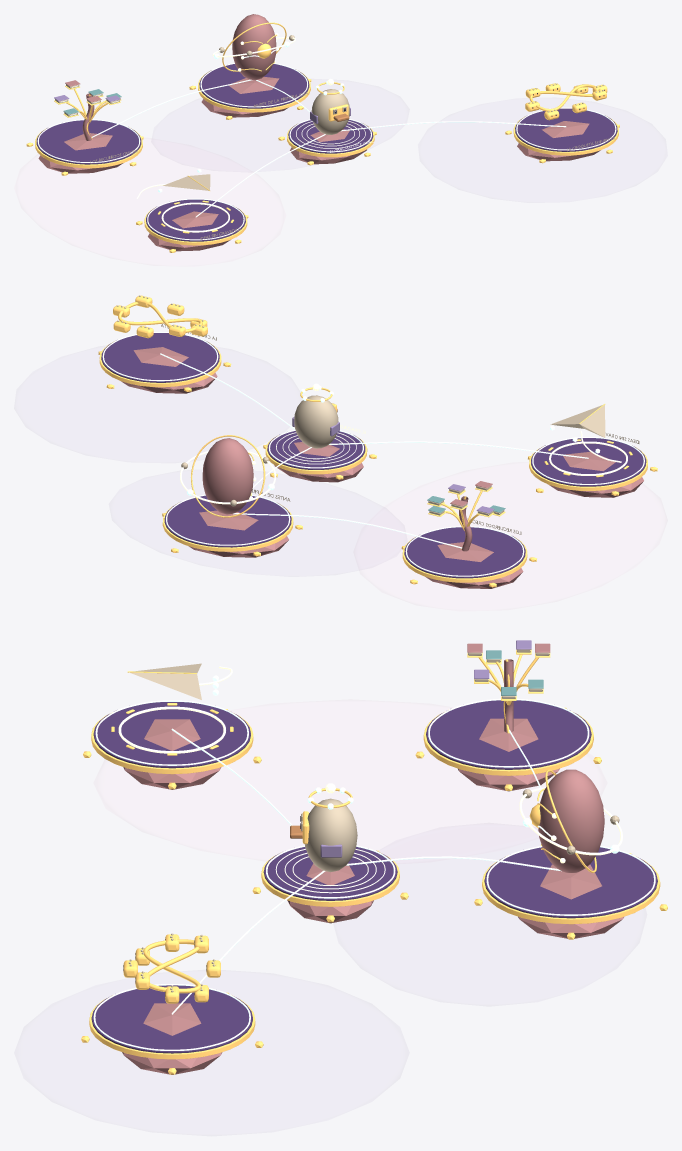
Rendered from origin.glb.
The picture shows the model from 3 angles, top to bottom: view 1: azimuth 30°, elevation 25°; view 2: azimuth 150°, elevation 25°; view 3: azimuth 270°, elevation 25°; orthographic projection. The views are drawn at different scales.
Parts seen in each view (by area): view 1: Batch_Origin_violet, Batch_Origin_coral, Batch_Origin_gold, Batch_Origin_mint, Batch_OriginSeed_coral, Batch_OracleEgg_cream, Batch_CroquetteOrbit_gold, Batch_Origin_signal, Batch_Origin_cream, Batch_ThoughtShip_cream; view 2: Batch_Origin_violet, Batch_Origin_coral, Batch_Origin_gold, Batch_Origin_mint, Batch_OriginSeed_coral, Batch_OracleEgg_cream, Batch_CroquetteOrbit_gold, Batch_Origin_signal, Batch_ThoughtShip_cream, Batch_Origin_cream, Batch_OriginRing_gold; view 3: Batch_Origin_violet, Batch_Origin_coral, Batch_Origin_gold, Batch_Origin_mint, Batch_OriginSeed_coral, Batch_OracleEgg_cream, Batch_CroquetteOrbit_gold, Batch_Origin_signal, Batch_ThoughtShip_cream.
Part boxes in pixels (x1,y1,x2,y2): Batch_Origin_violet: [36, 64, 617, 241]; Batch_Origin_coral: [38, 77, 600, 251]; Batch_Origin_gold: [26, 70, 619, 252]; Batch_Origin_mint: [37, 63, 616, 240]; Batch_OriginSeed_coral: [232, 14, 276, 80]; Batch_OracleEgg_cream: [311, 89, 349, 134]; Batch_CroquetteOrbit_gold: [525, 83, 607, 120]; Batch_Origin_signal: [136, 121, 373, 232]; Batch_Origin_cream: [55, 84, 615, 239]; Batch_ThoughtShip_cream: [163, 174, 210, 190]; Batch_Origin_violet: [101, 333, 646, 578]; Batch_Origin_coral: [121, 347, 643, 588]; Batch_Origin_gold: [98, 302, 657, 587]; Batch_Origin_mint: [102, 331, 644, 576]; Batch_OriginSeed_coral: [202, 438, 253, 514]; Batch_OracleEgg_cream: [294, 395, 338, 448]; Batch_CroquetteOrbit_gold: [113, 295, 207, 338]; Batch_Origin_signal: [276, 425, 627, 475]; Batch_ThoughtShip_cream: [550, 405, 605, 437]; Batch_Origin_cream: [161, 324, 639, 534]; Batch_OriginRing_gold: [191, 435, 265, 517]; Batch_Origin_violet: [91, 700, 657, 1053]; Batch_Origin_coral: [122, 643, 623, 1074]; Batch_Origin_gold: [81, 649, 667, 1074]; Batch_Origin_mint: [93, 649, 655, 1050]; Batch_OriginSeed_coral: [538, 769, 604, 872]; Batch_OracleEgg_cream: [301, 798, 357, 872]; Batch_CroquetteOrbit_gold: [123, 934, 220, 1003]; Batch_Origin_signal: [118, 666, 385, 893]; Batch_ThoughtShip_cream: [129, 663, 201, 699].
Bounding box in the file's own units: 52 × 8.46 × 33.04.
